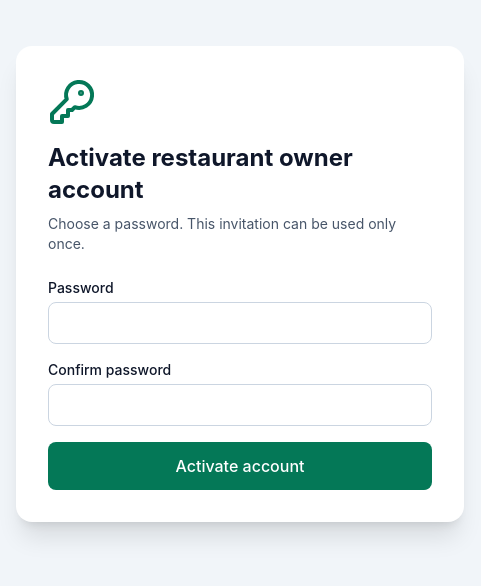
ActivationForm › rejects mismatched passwords before making a request
The image size is (481, 586).
Type "Owner-password-123!" into the password field labelled "Password" at (240, 323), box [48,302,432,344]
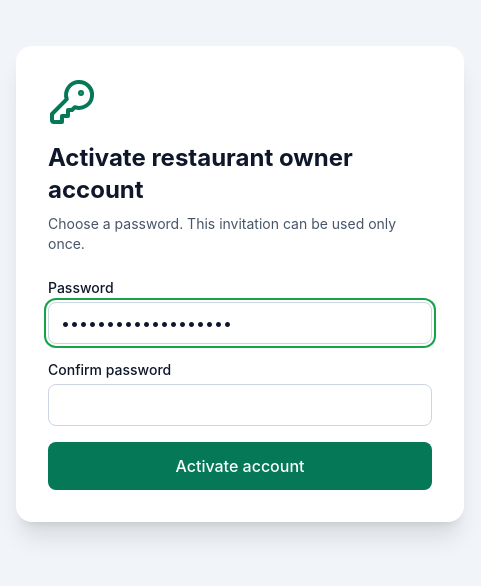
Type "Different-password!" into the password field labelled "Confirm password" at (240, 405), box [48,384,432,426]
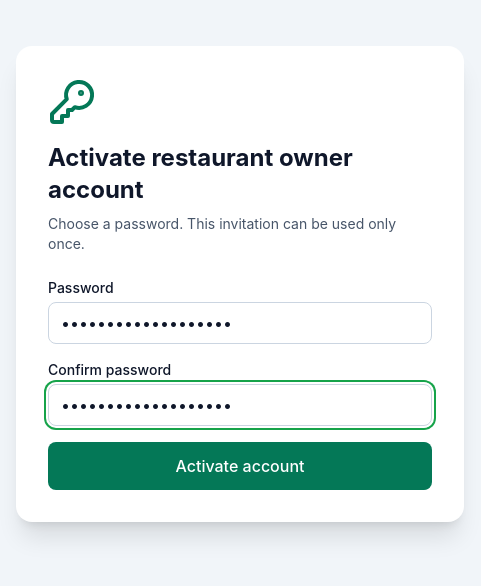
Click the button "Activate account" at (240, 466), box [48,442,432,490]
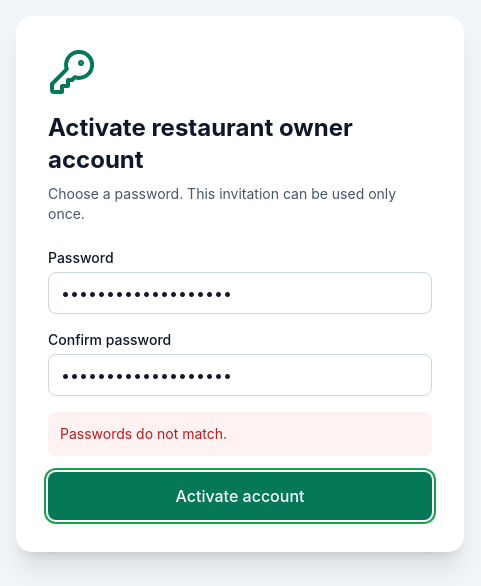
Expected: the message shows "Passwords do not match", [60,425,227,442]
